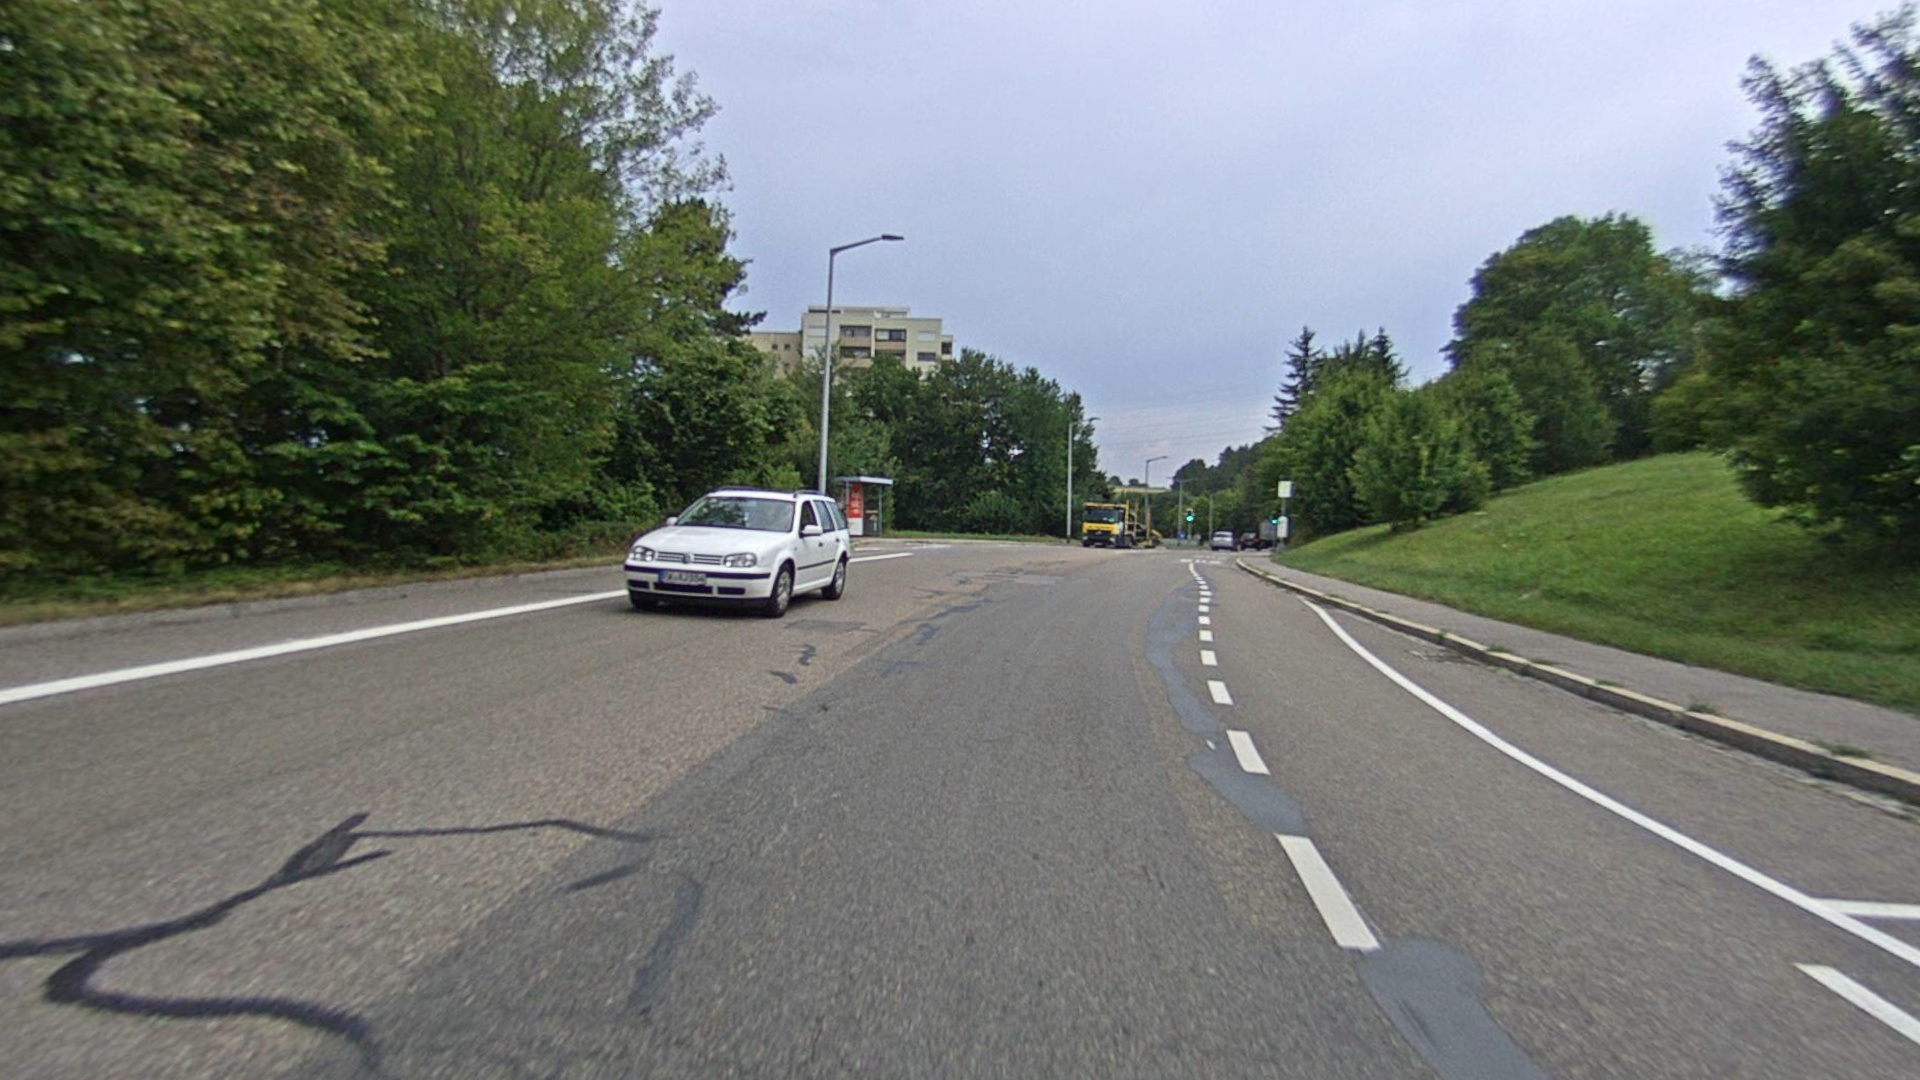car: (620, 487, 852, 621)
